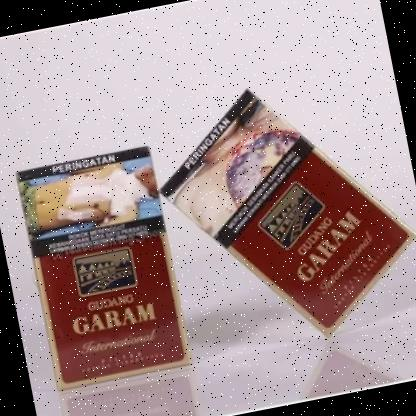bungkus rokok: (137, 43, 416, 365), (8, 138, 194, 398)
